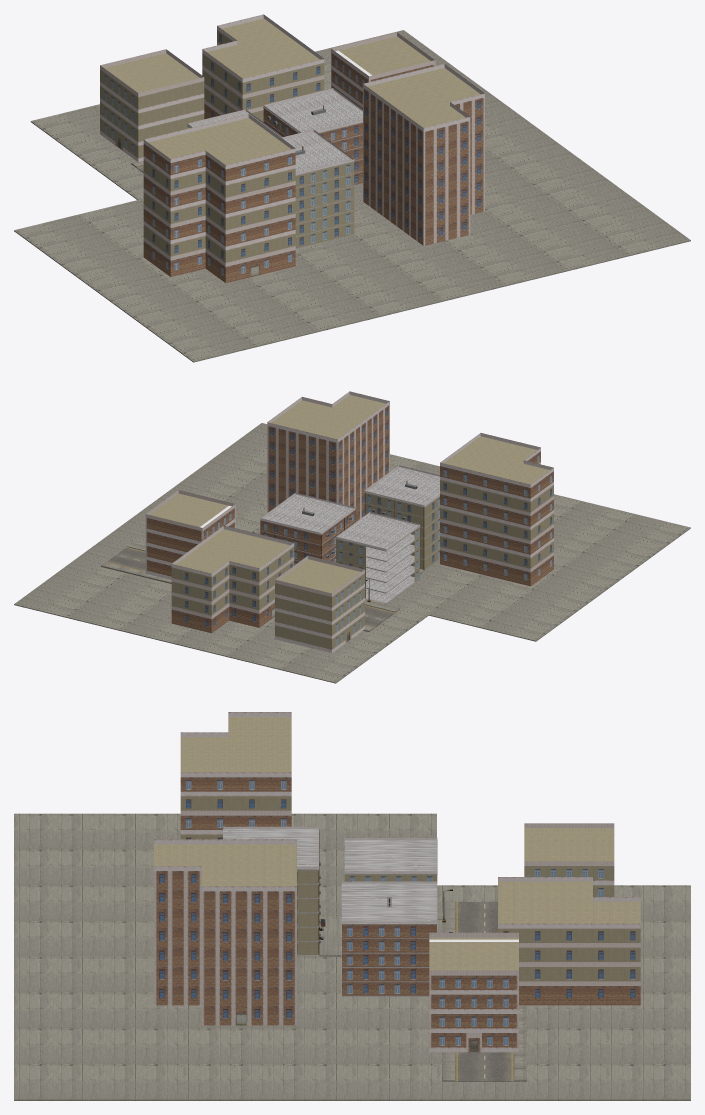
Rendered from apartment_windows.glb.
3 views of the same model, one above another, from view 1: azimuth 30°, elevation 25°; view 2: azimuth 150°, elevation 25°; view 3: azimuth 270°, elevation 25° (orthographic). The views are drawn at different scales.
Parts seen in each view (by area): view 1: Urban_flat_Lshape_large_alt, Urban_flat_Lshape_vertical_stripes, Urban_flat_Lshape, Urban_flat_square_concrete, Urban_flat_square_brick, Urban_east_roof, Urban_city_ground.007, Urban_city_ground.047, Urban_city_ground.023, Urban_city_ground.055, Urban_city_ground.015, Urban_city_ground.031 (+27 smaller); view 2: Urban_flat_Lshape_large_alt, Urban_flat_Lshape_vertical_stripes, Urban_flat_Lshape, Urban_flat_square_concrete, Urban_flat_square_brick, Urban_east_roof, Urban_rear_roof, Urban_city_ground.003, Urban_host_roof, Urban_city_ground.011, Urban_city_ground.048, Urban_city_ground.056 (+31 smaller); view 3: Urban_flat_Lshape_vertical_stripes, Urban_flat_Lshape, Urban_flat_Lshape_large_alt, Urban_flat_square_brick, Urban_flat_square_concrete, Urban_east_roof, Urban_host_roof, Urban_city_ground.062, Urban_city_ground.007, Urban_city_ground.015, Urban_city_ground.039, Urban_city_ground.047 (+40 smaller).
Boxes of the visible parts, bbox=[...] form: Urban_flat_Lshape_large_alt: bbox=[143, 114, 295, 282]; Urban_flat_Lshape_vertical_stripes: bbox=[363, 64, 484, 245]; Urban_flat_Lshape: bbox=[202, 14, 324, 121]; Urban_flat_square_concrete: bbox=[100, 49, 204, 162]; Urban_flat_square_brick: bbox=[331, 32, 435, 109]; Urban_east_roof: bbox=[263, 90, 362, 133]; Urban_city_ground.007: bbox=[157, 320, 255, 362]; Urban_city_ground.047: bbox=[469, 244, 566, 286]; Urban_city_ground.023: bbox=[282, 290, 379, 331]; Urban_city_ground.055: bbox=[531, 229, 628, 271]; Urban_city_ground.015: bbox=[220, 305, 317, 347]; Urban_city_ground.031: bbox=[344, 274, 442, 316]; Urban_flat_Lshape_large_alt: bbox=[440, 433, 553, 586]; Urban_flat_Lshape_vertical_stripes: bbox=[267, 391, 389, 521]; Urban_flat_Lshape: bbox=[171, 525, 294, 633]; Urban_flat_square_concrete: bbox=[275, 555, 364, 652]; Urban_flat_square_brick: bbox=[145, 490, 235, 579]; Urban_east_roof: bbox=[260, 494, 355, 535]; Urban_rear_roof: bbox=[364, 467, 439, 507]; Urban_city_ground.003: bbox=[482, 605, 566, 641]; Urban_host_roof: bbox=[335, 513, 420, 551]; Urban_city_ground.011: bbox=[428, 592, 512, 628]; Urban_city_ground.048: bbox=[67, 594, 151, 630]; Urban_city_ground.056: bbox=[14, 581, 97, 617]; Urban_flat_Lshape_vertical_stripes: bbox=[154, 839, 296, 1025]; Urban_flat_Lshape: bbox=[498, 877, 640, 1005]; Urban_flat_Lshape_large_alt: bbox=[180, 712, 291, 839]; Urban_flat_square_brick: bbox=[429, 932, 518, 1052]; Urban_flat_square_concrete: bbox=[524, 823, 614, 896]; Urban_east_roof: bbox=[341, 883, 437, 924]; Urban_host_roof: bbox=[344, 840, 437, 874]; Urban_city_ground.062: bbox=[98, 1064, 183, 1100]; Urban_city_ground.007: bbox=[14, 813, 98, 849]; Urban_city_ground.015: bbox=[14, 849, 98, 885]; Urban_city_ground.039: bbox=[14, 956, 98, 992]; Urban_city_ground.047: bbox=[14, 992, 98, 1028].
Bounding box in the file's own units: 128 × 29.6 × 128.
Materials: 79 (78 with a texture image).
